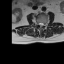CCS_normal: (40, 21, 42, 29)
LFS_normal: (43, 21, 45, 27)
LLS_normal: (42, 21, 43, 27)
RFS_normal: (36, 21, 38, 26)
RLS_normal: (38, 21, 40, 27)
